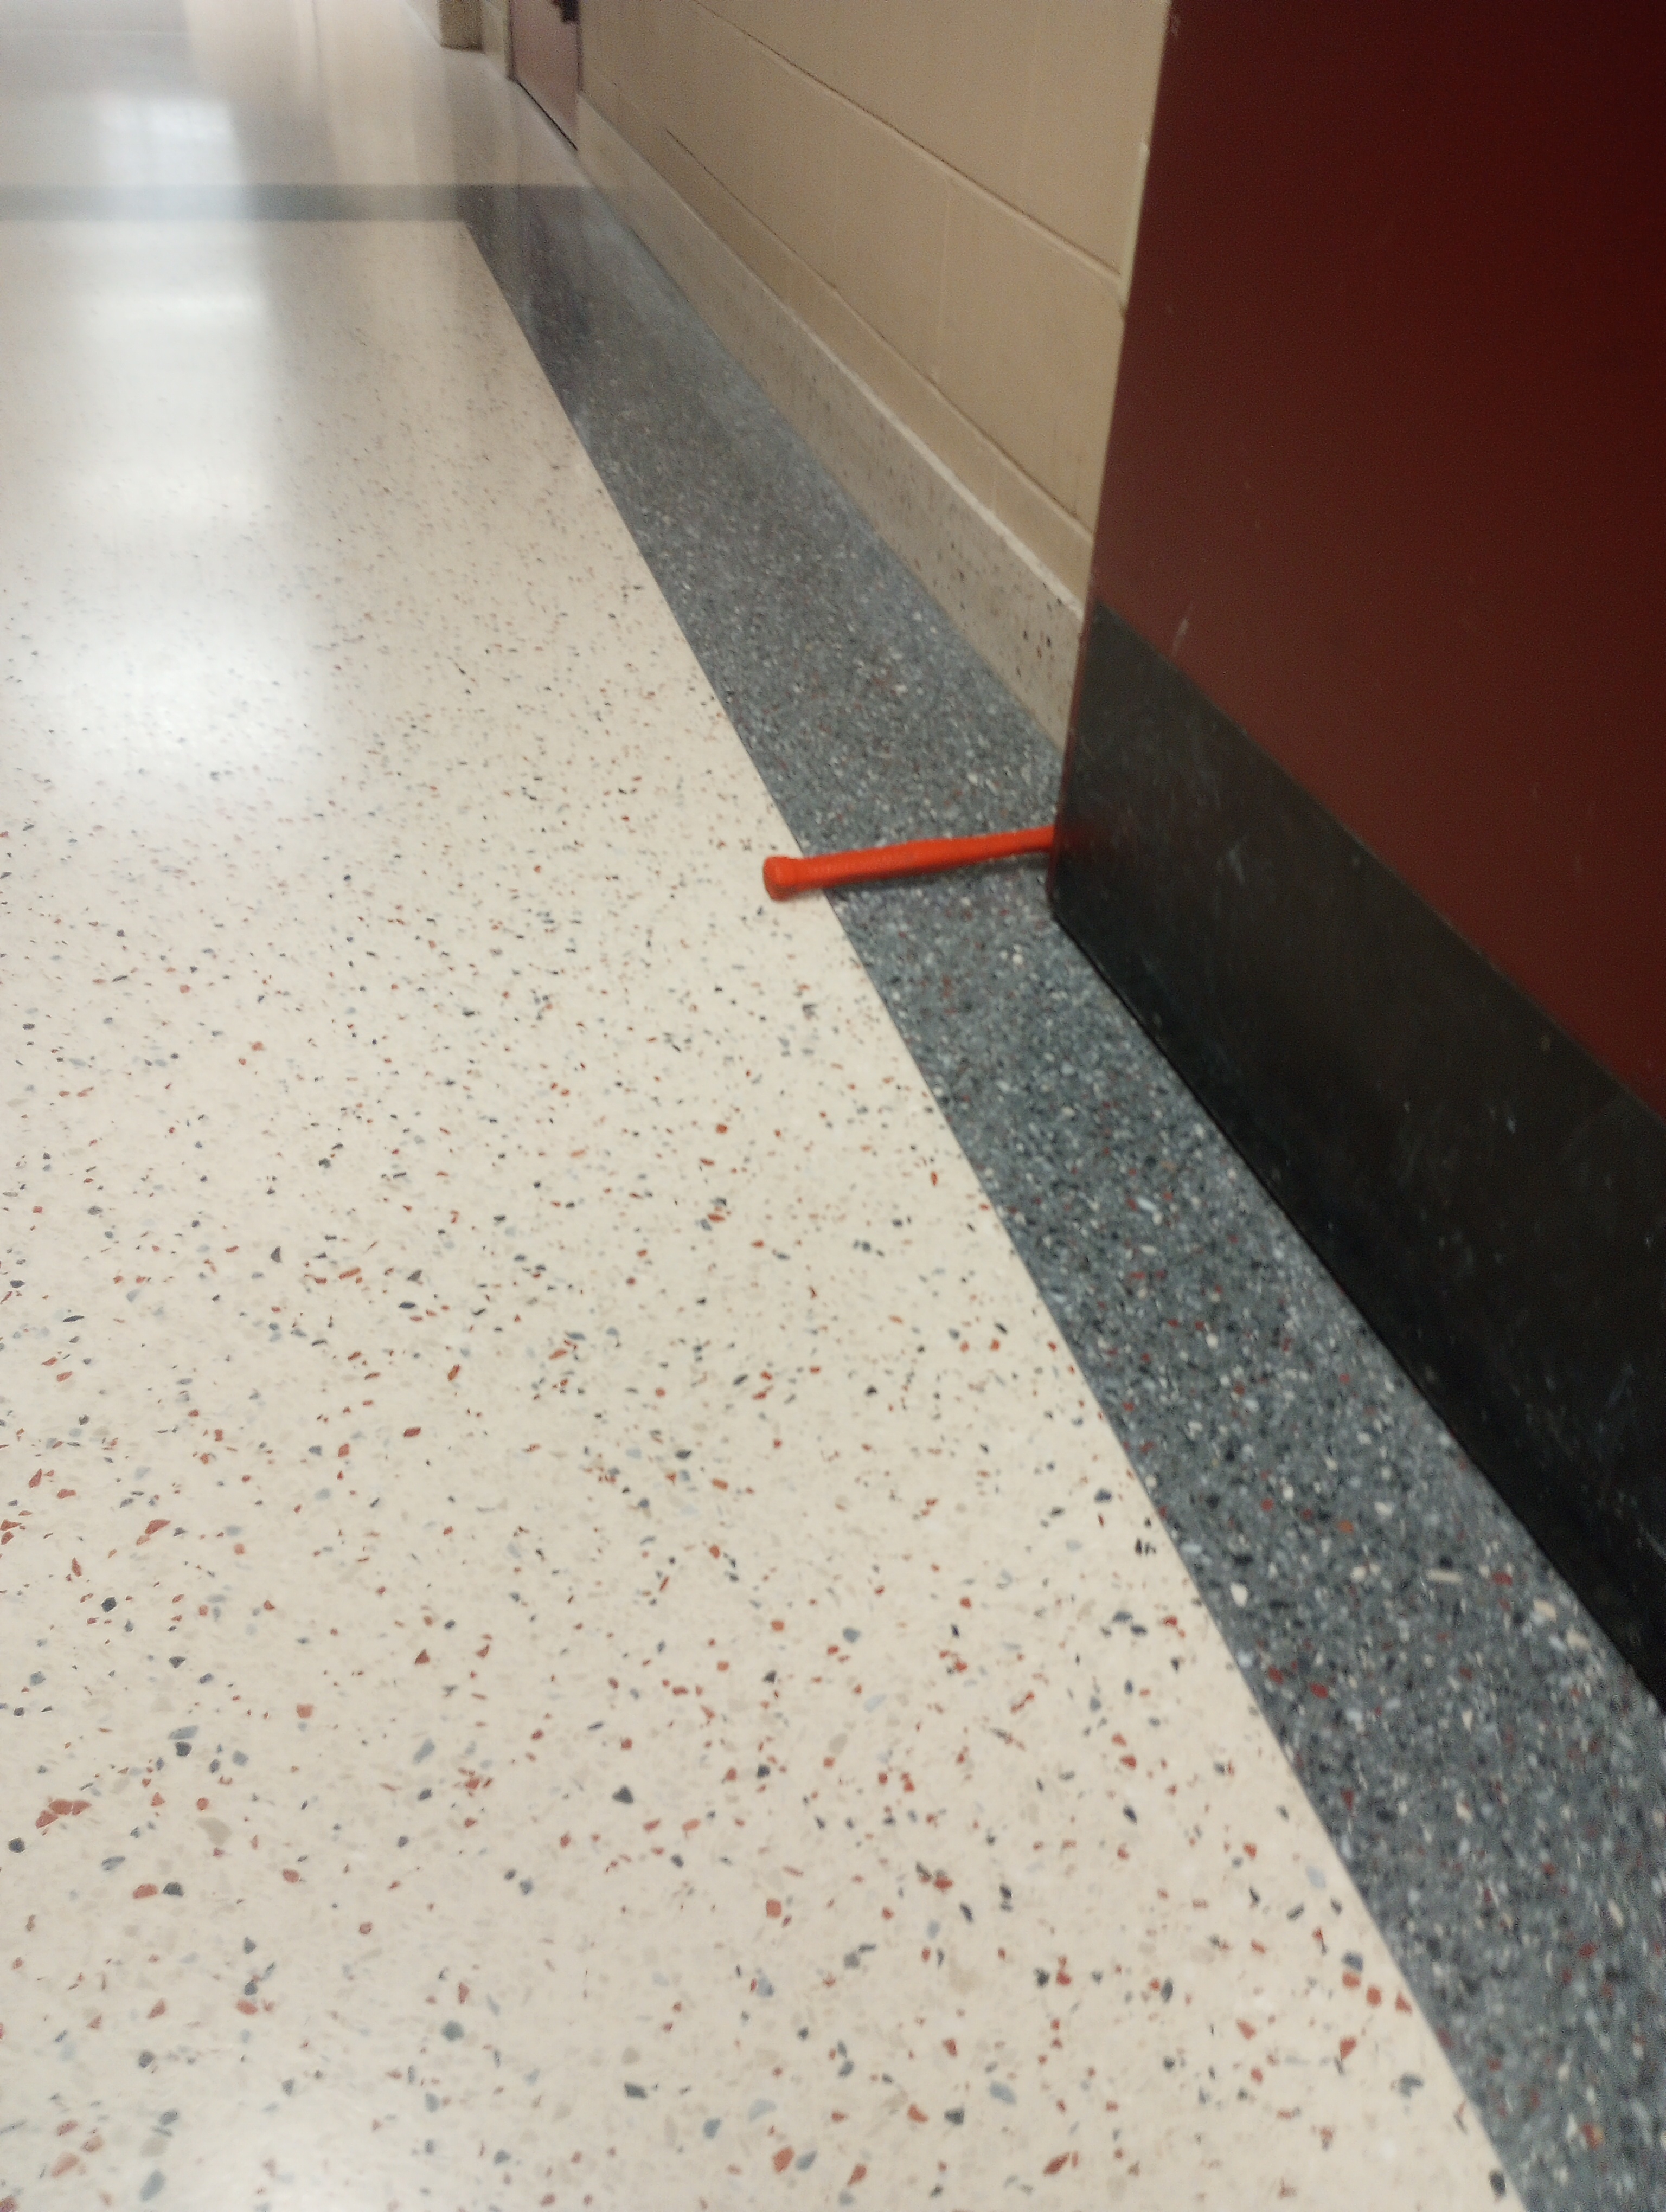bottle: (756, 813, 1062, 913)
